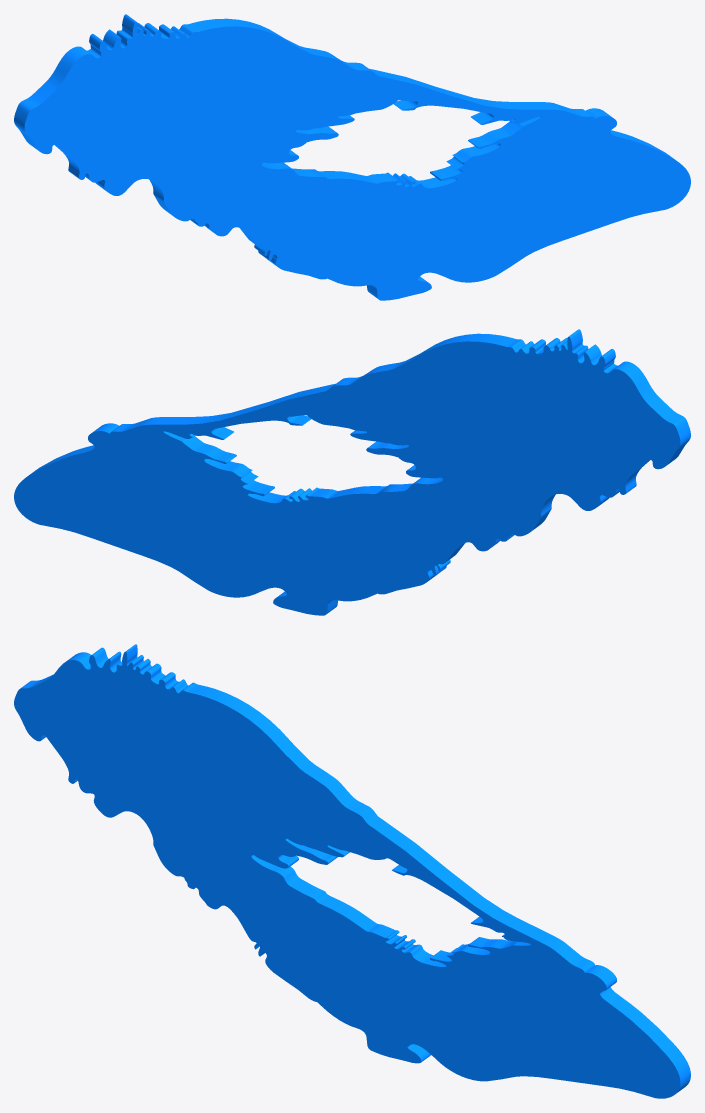
File: 36REEEEE.gltf
The picture shows the model from 3 angles, top to bottom: view 1: azimuth 30°, elevation 25°; view 2: azimuth 150°, elevation 25°; view 3: azimuth 330°, elevation 25°; orthographic projection.
Visible parts, largest first — view 1: 캡 1, 36; view 2: 캡 2, 36; view 3: 캡 1, 36.
Boxes of the visible parts, x1,y1,x2,y2 form: 캡 1: (24, 22, 690, 300); 36: (14, 14, 674, 299); 캡 2: (14, 337, 680, 615); 36: (30, 329, 690, 614); 캡 1: (14, 652, 680, 1098); 36: (21, 644, 690, 1093).
Bounding box in the file's own units: 22 × 10.83 × 0.6.
